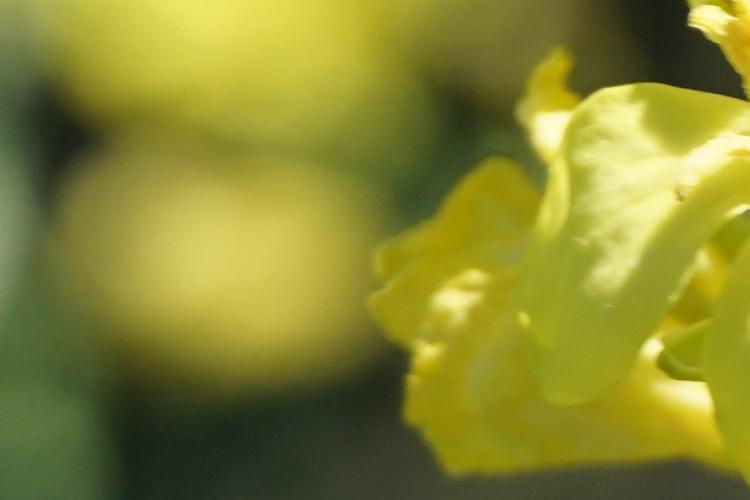yellow: (406, 97, 750, 466)
